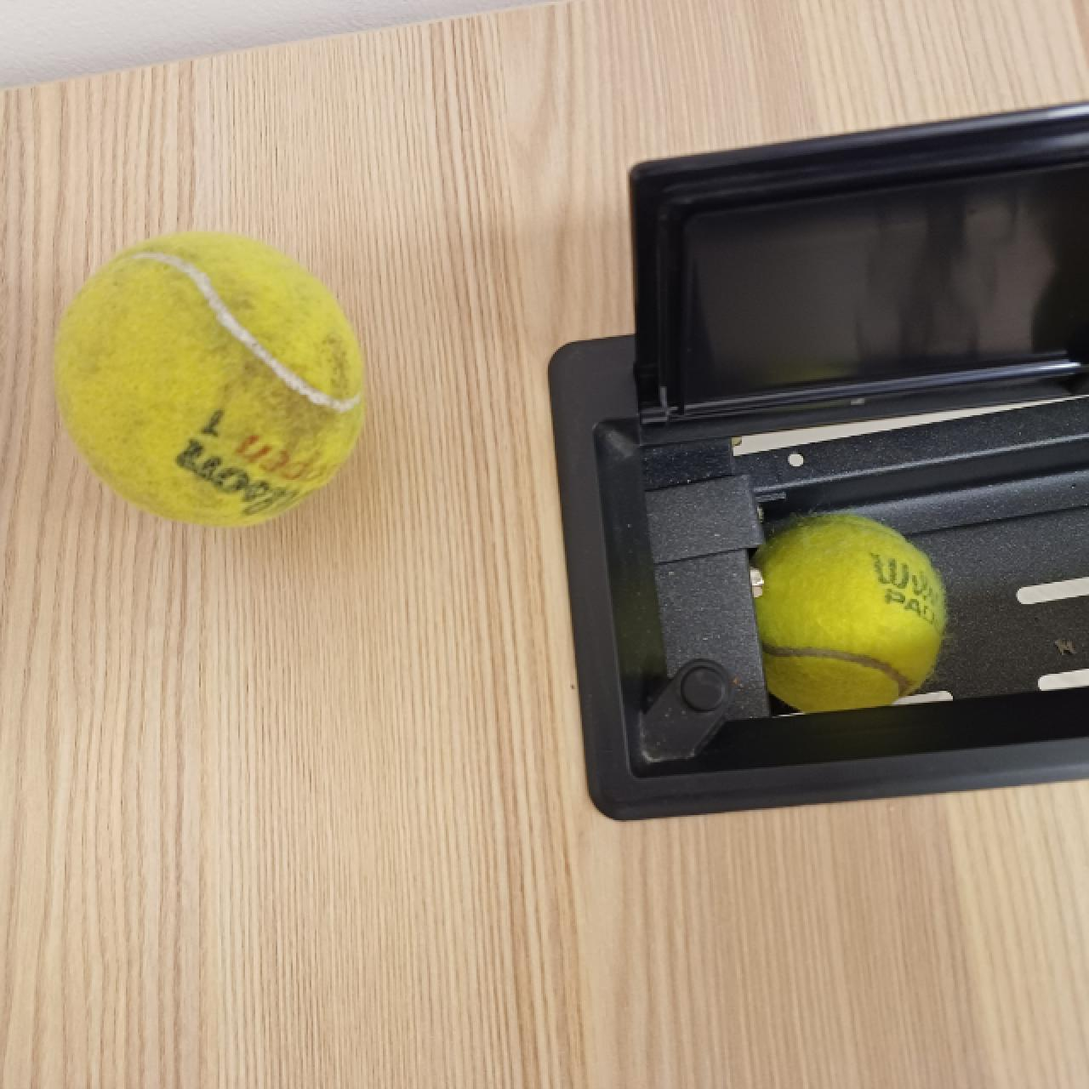tennis-ball: (56, 230, 364, 524), (750, 510, 950, 715)
